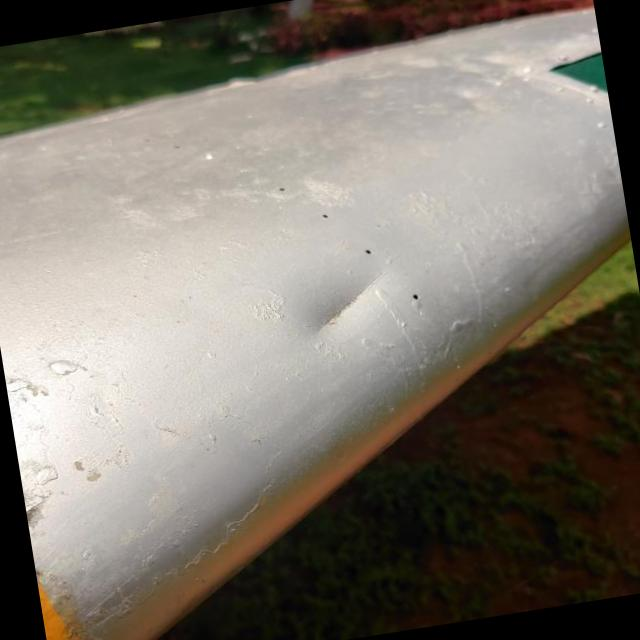Dent: (268, 237, 400, 350)
